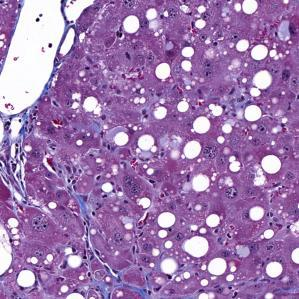fibrosis: (0, 108, 29, 198)
